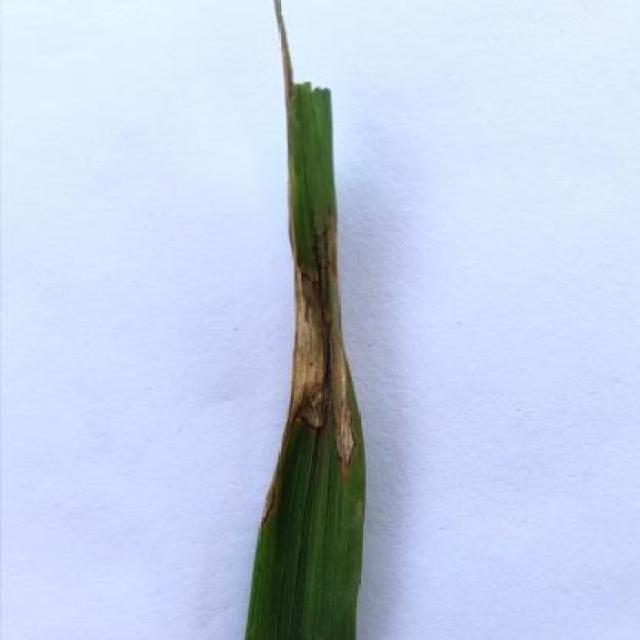Brown_Spot: (251, 0, 374, 640)
